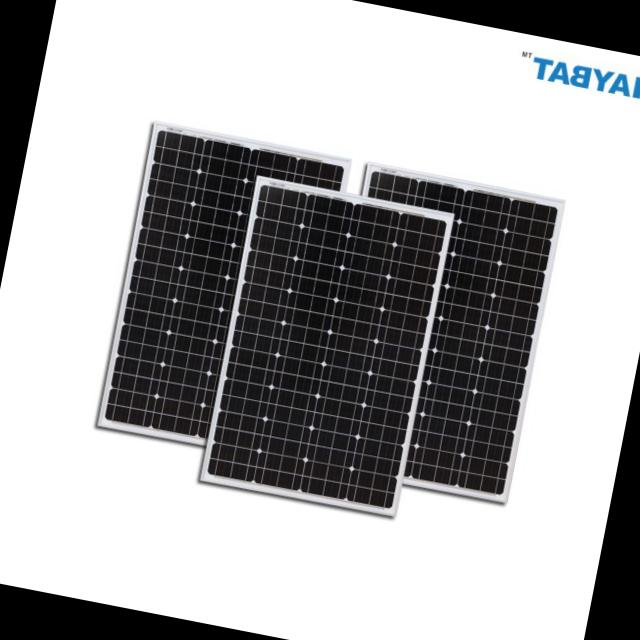no faulty: (90, 134, 342, 463), (209, 184, 443, 514), (325, 178, 558, 497)
